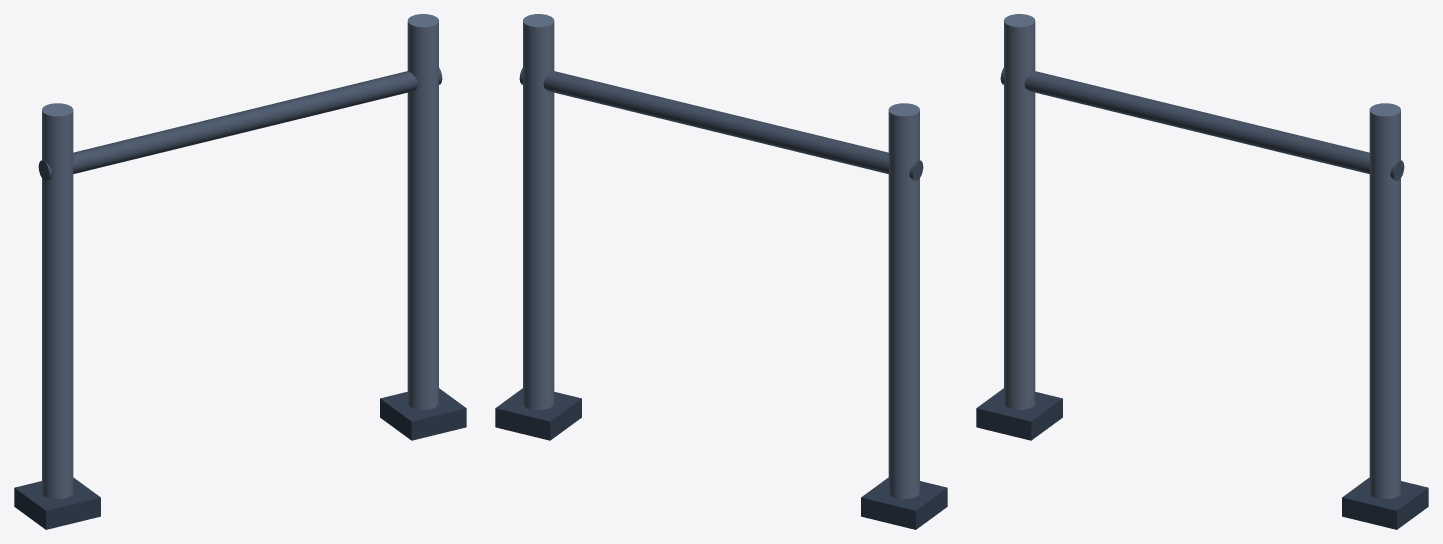
File: ensamble.glb
3 views of the same model, side by side, from view 1: azimuth 30°, elevation 25°; view 2: azimuth 150°, elevation 25°; view 3: azimuth 330°, elevation 25° (orthographic).
Parts seen in each view (by area): view 1: LVL2_POSTE-V1, LVL2_POSTE-V2, LVL3_COPLE-X1, LVL1_BASE-01, LVL1_BASE-02; view 2: LVL2_POSTE-V1, LVL2_POSTE-V2, LVL3_COPLE-X1, LVL1_BASE-01, LVL1_BASE-02; view 3: LVL2_POSTE-V2, LVL2_POSTE-V1, LVL3_COPLE-X1, LVL1_BASE-02, LVL1_BASE-01.
Boxes of the visible parts, box(x1,y1,x2,y2) form: LVL2_POSTE-V1: box(42, 103, 73, 499); LVL2_POSTE-V2: box(407, 14, 438, 409); LVL3_COPLE-X1: box(38, 67, 442, 180); LVL1_BASE-01: box(14, 477, 100, 529); LVL1_BASE-02: box(380, 388, 466, 440); LVL2_POSTE-V1: box(888, 103, 919, 499); LVL2_POSTE-V2: box(523, 14, 554, 409); LVL3_COPLE-X1: box(519, 67, 923, 180); LVL1_BASE-01: box(861, 477, 947, 529); LVL1_BASE-02: box(495, 388, 581, 440); LVL2_POSTE-V2: box(1369, 103, 1400, 499); LVL2_POSTE-V1: box(1004, 14, 1035, 409); LVL3_COPLE-X1: box(1000, 67, 1404, 180); LVL1_BASE-02: box(1342, 477, 1428, 529); LVL1_BASE-01: box(976, 388, 1062, 440).
Bounding box in the file's own units: 4.6 × 4.2 × 0.6.
